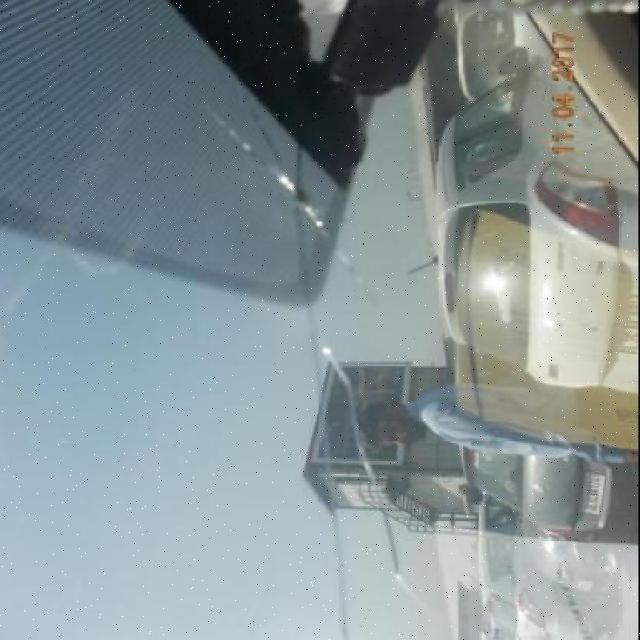damage: (278, 158, 324, 213)
